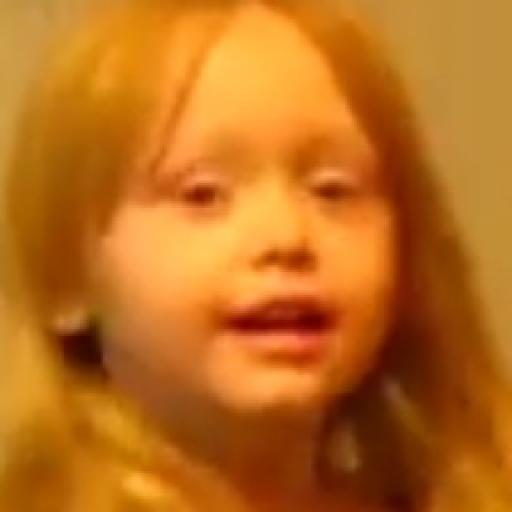Autism: (80, 36, 453, 512)
